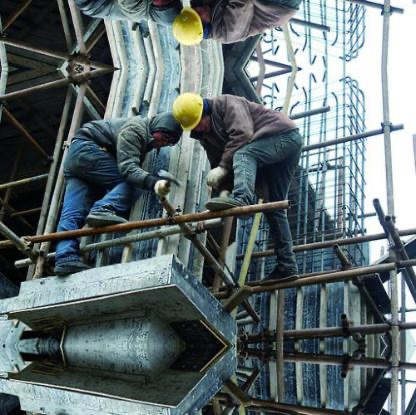Safety Helmet: (167, 5, 221, 51), (169, 91, 219, 138)
